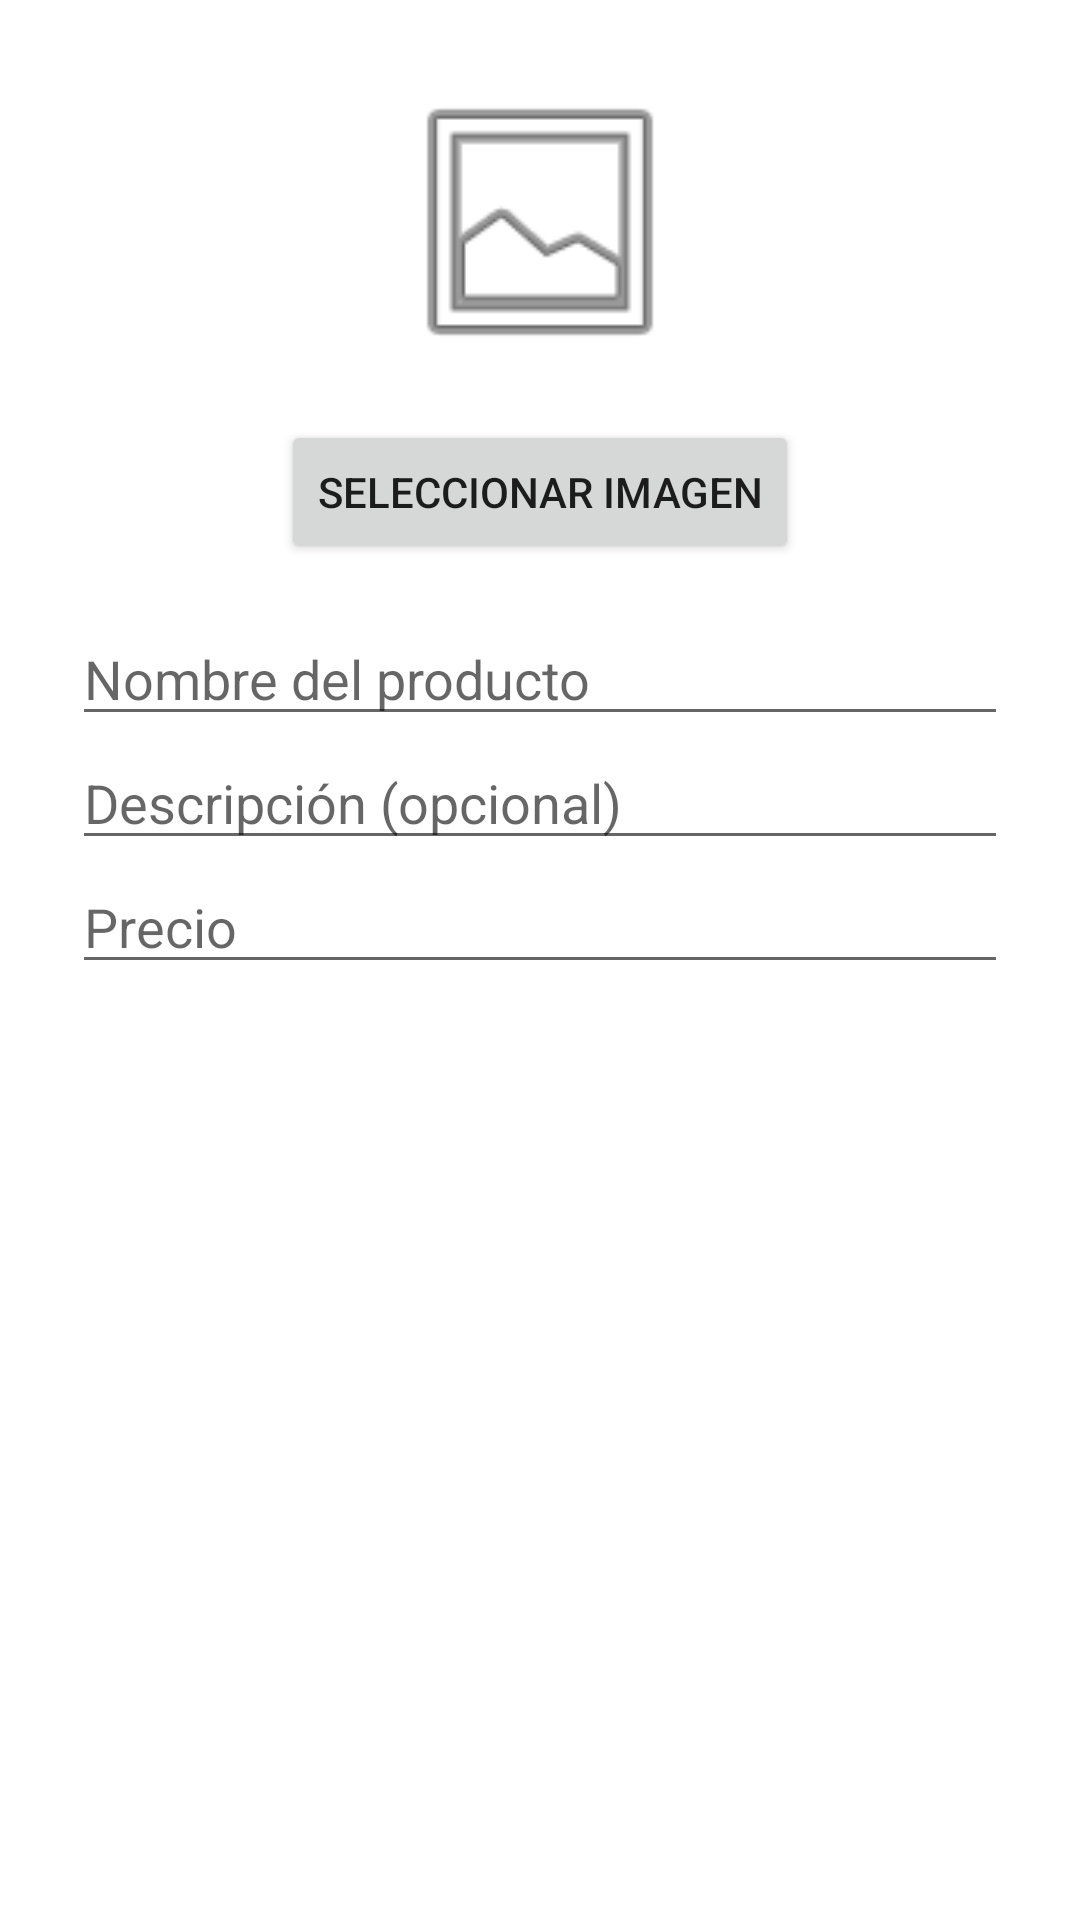

Screen size 1080w x 1920h. Icon name, then its center in pixels as (x=x, y=y):
gallery: (x=540, y=222)
